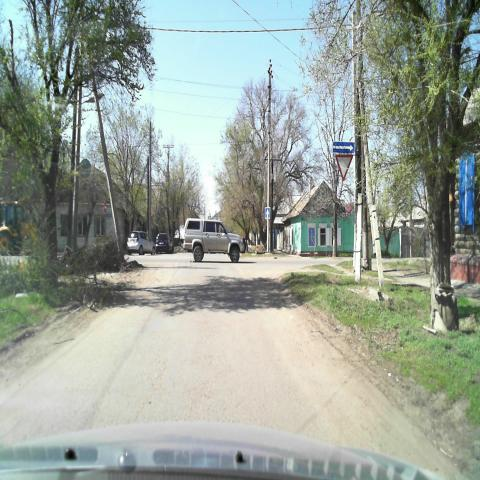5_7_1: (332, 140, 356, 154)
